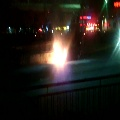fire: (47, 41, 67, 67)
